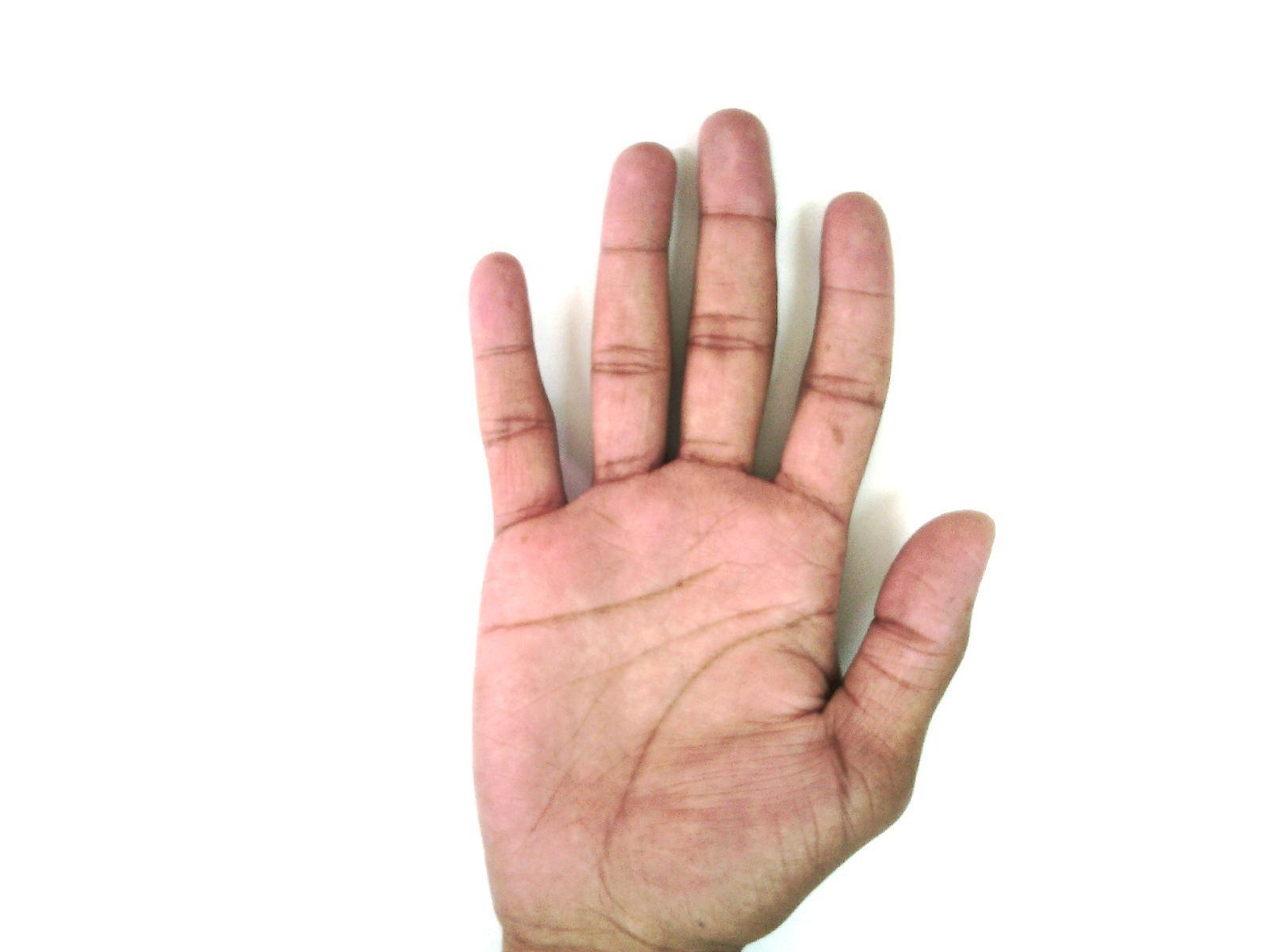open_palm: (463, 107, 998, 951)
